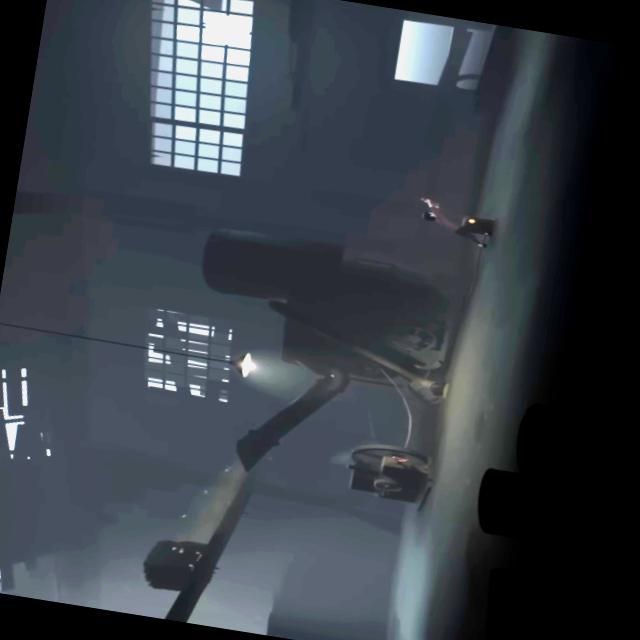boy: (418, 202, 495, 248)
